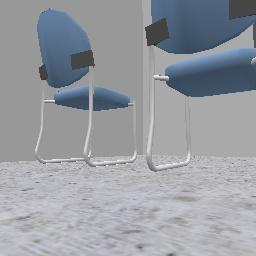scaun: (145, 0, 255, 170), (36, 8, 136, 166)
